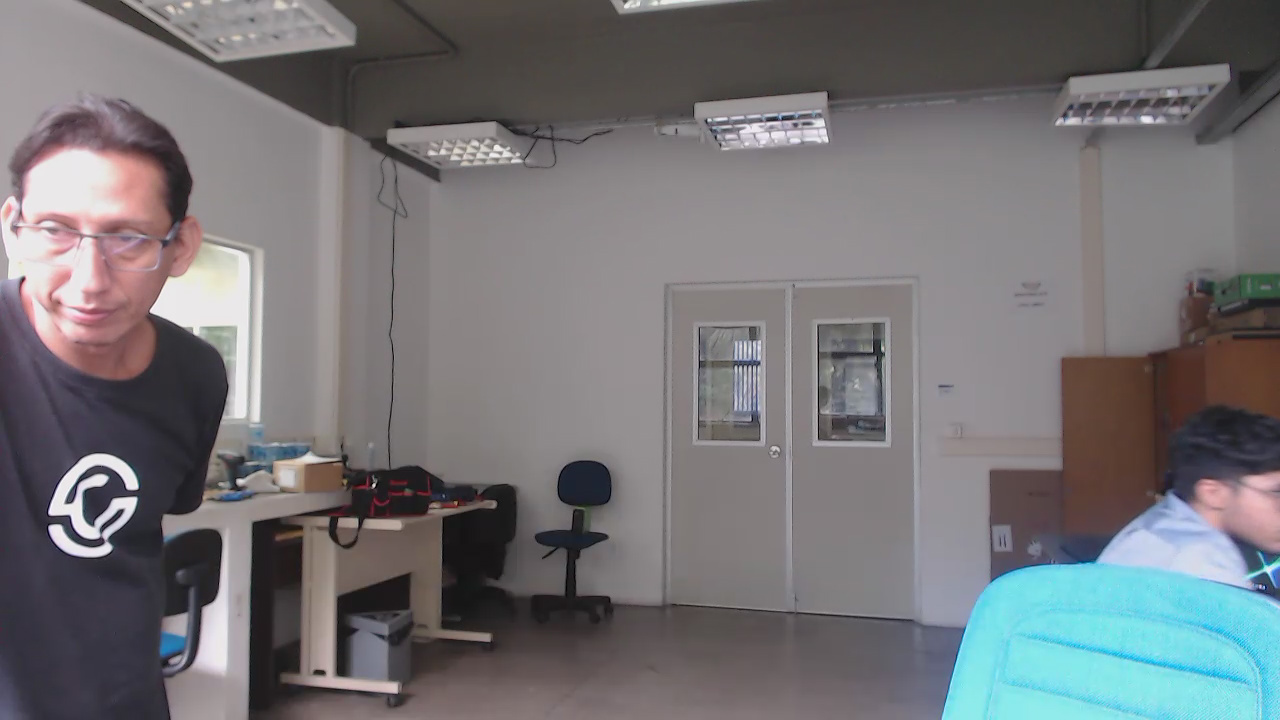Cell phone: (577, 516, 590, 539)
